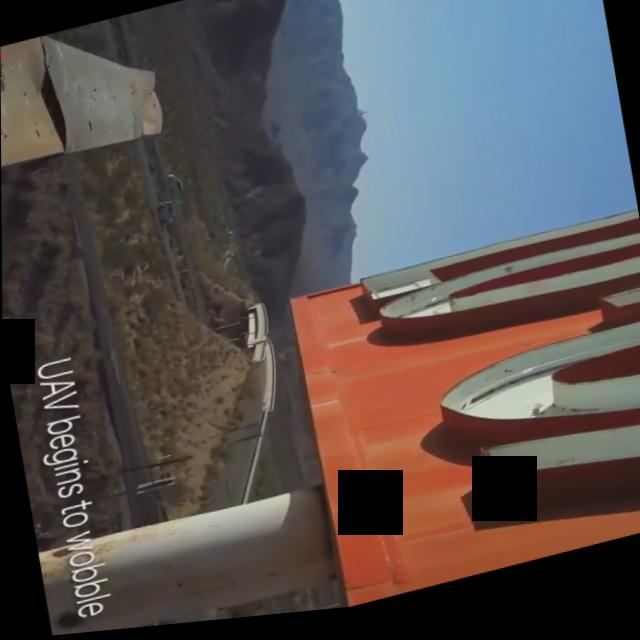Building: (6, 220, 640, 640), (0, 12, 165, 188)
